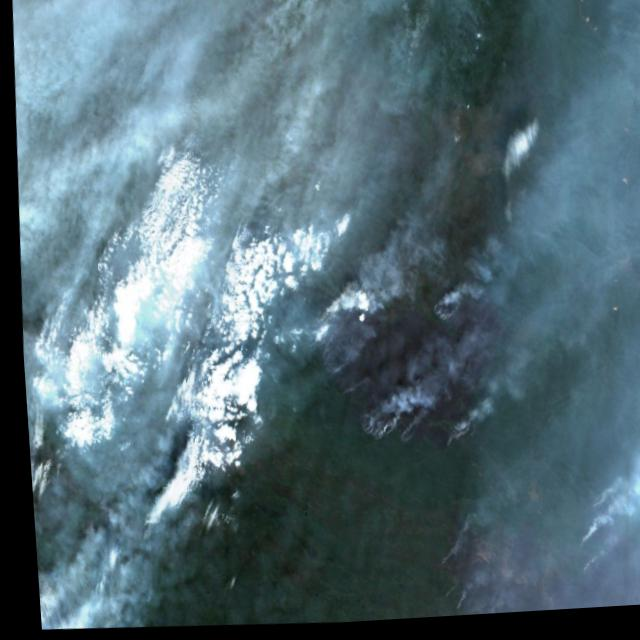fire: (308, 284, 499, 465), (427, 536, 466, 619), (563, 494, 595, 587)
